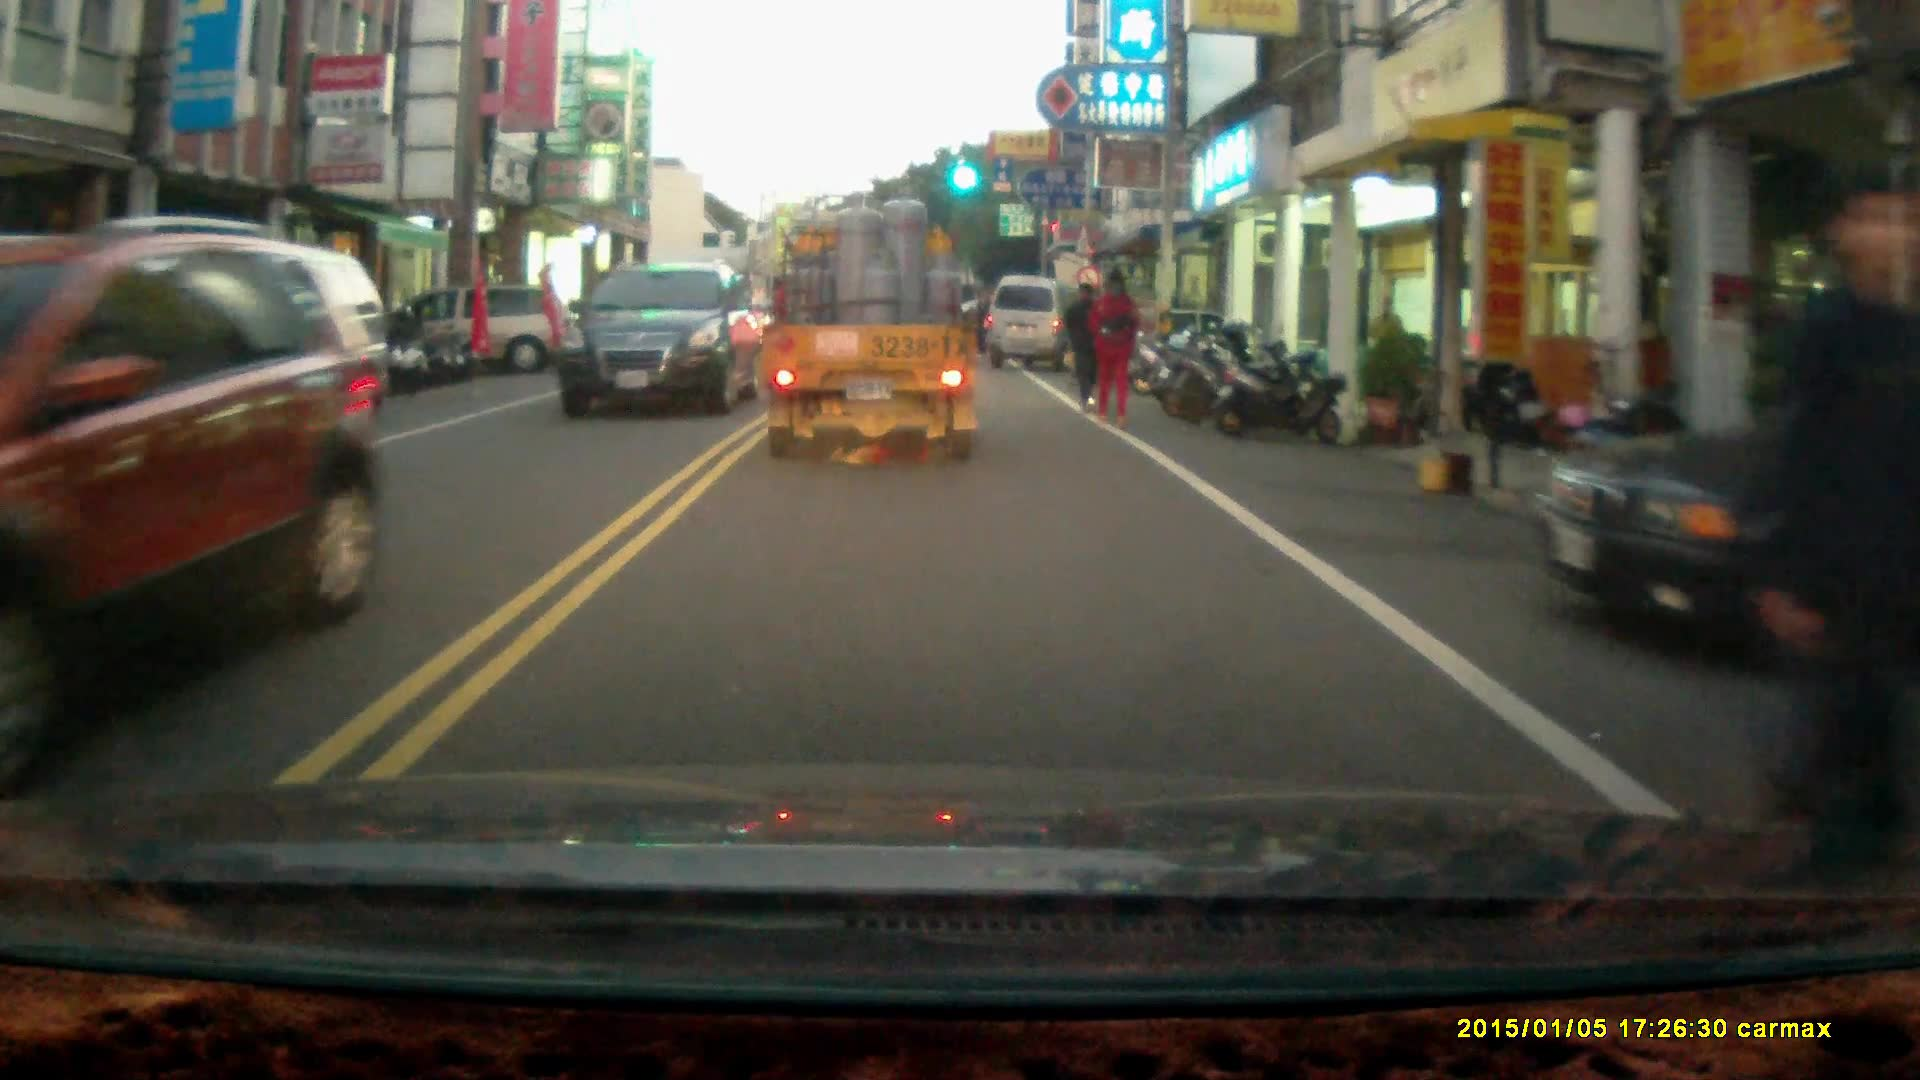pedestrian: (1748, 159, 1920, 879), (1088, 265, 1139, 426), (1061, 274, 1105, 409), (1365, 290, 1404, 391)
vehicle: (1, 220, 411, 721), (1521, 370, 1920, 656), (756, 179, 987, 467), (106, 257, 387, 466), (558, 259, 763, 420), (354, 286, 592, 374), (986, 272, 1085, 373)
